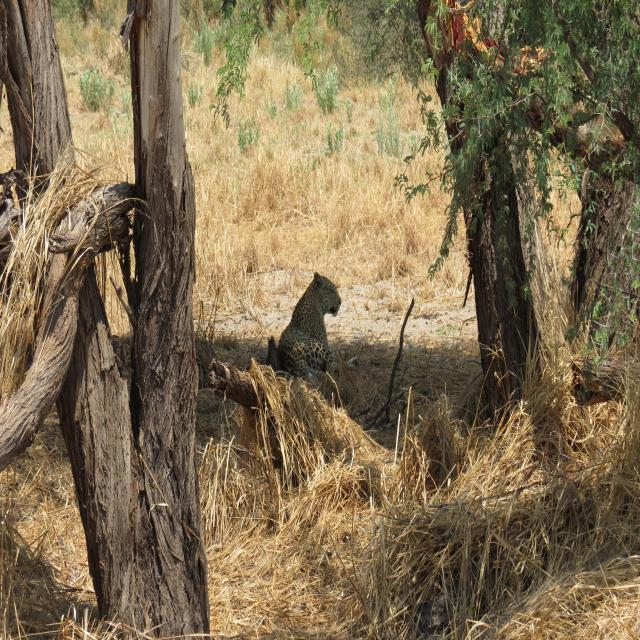Leopard: (270, 272, 348, 383)
